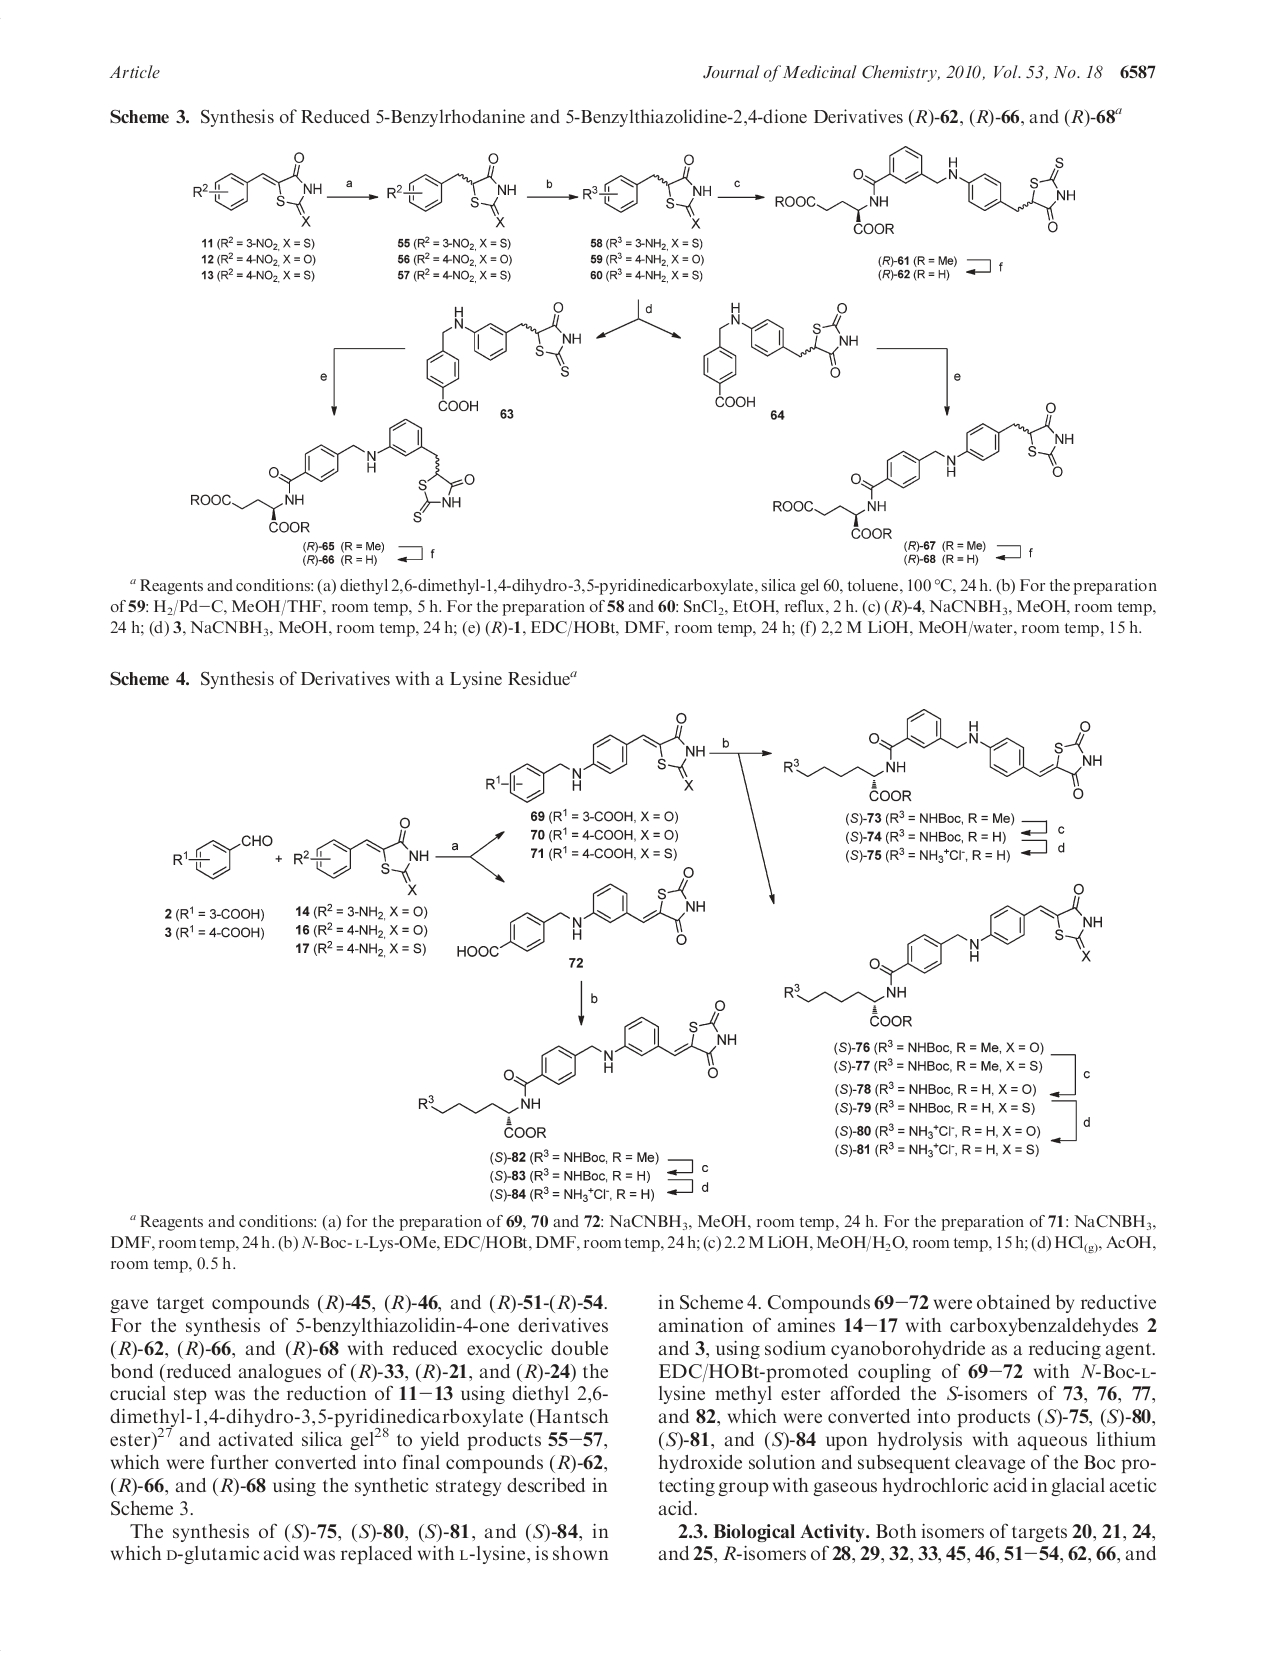exist_molecular: (783, 880, 1104, 1031), (419, 997, 741, 1138), (770, 395, 1077, 543), (191, 418, 475, 537), (783, 705, 1102, 805), (775, 146, 1076, 239), (484, 711, 709, 806), (426, 299, 586, 414), (703, 298, 860, 411), (291, 815, 432, 895), (386, 152, 521, 229), (193, 152, 324, 229), (582, 154, 717, 229), (170, 829, 275, 880)
